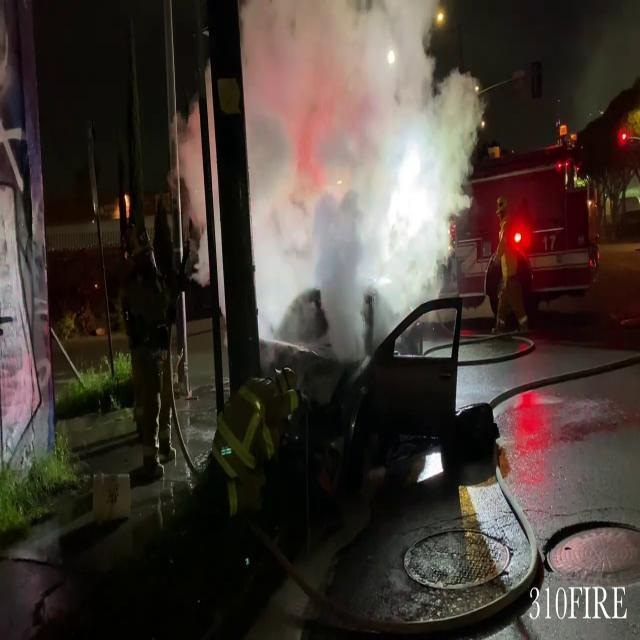Smoke: (249, 0, 493, 324)
